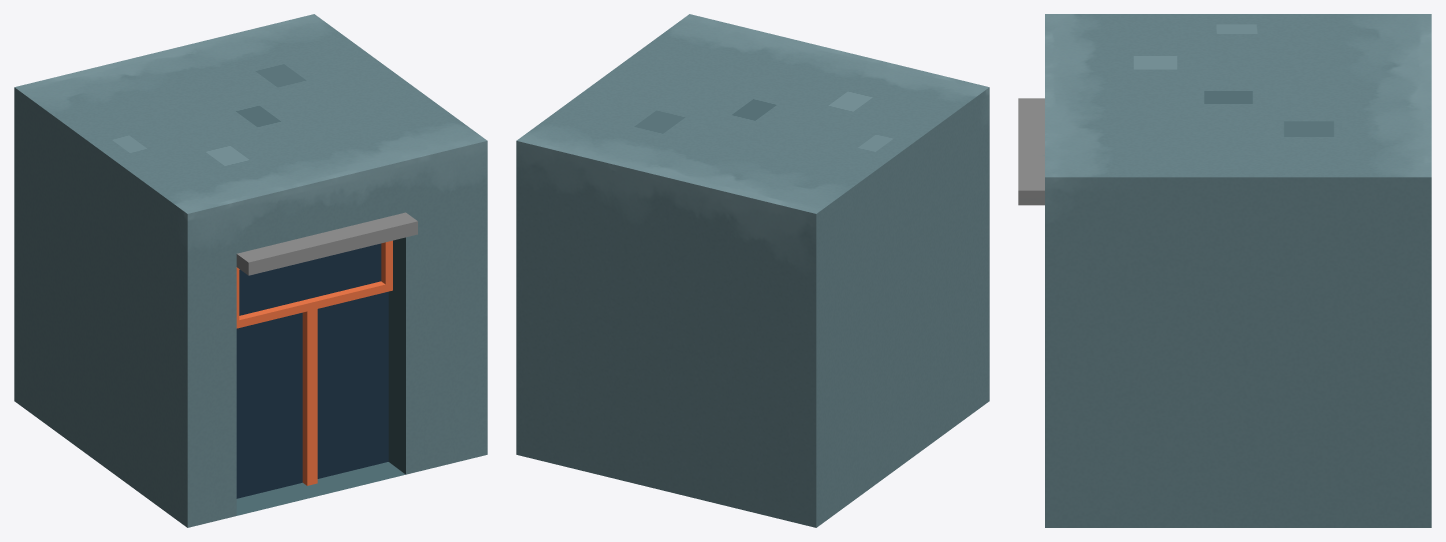
File: m_block_1_texture.FBX
3 views of the same model, side by side, from view 1: azimuth 30°, elevation 25°; view 2: azimuth 150°, elevation 25°; view 3: azimuth 270°, elevation 25° (orthographic). The views are drawn at different scales.
Parts seen in each view (by area): view 1: block1; view 2: block1; view 3: block1.
Part boxes in pixels (left/top/right/bottom): block1: left=14, top=14, right=487, bottom=527; block1: left=516, top=14, right=989, bottom=527; block1: left=1018, top=14, right=1431, bottom=527.
Size of the model in its own units: 100 by 100 by 107.
